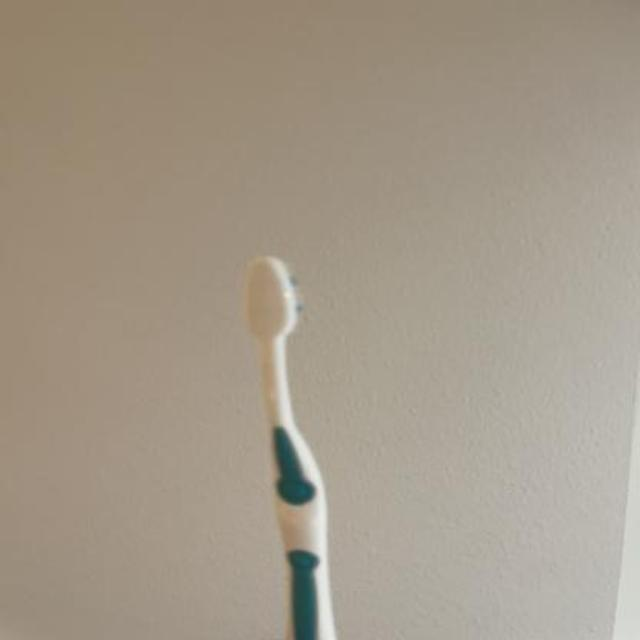toothbrush: (238, 244, 348, 640)
